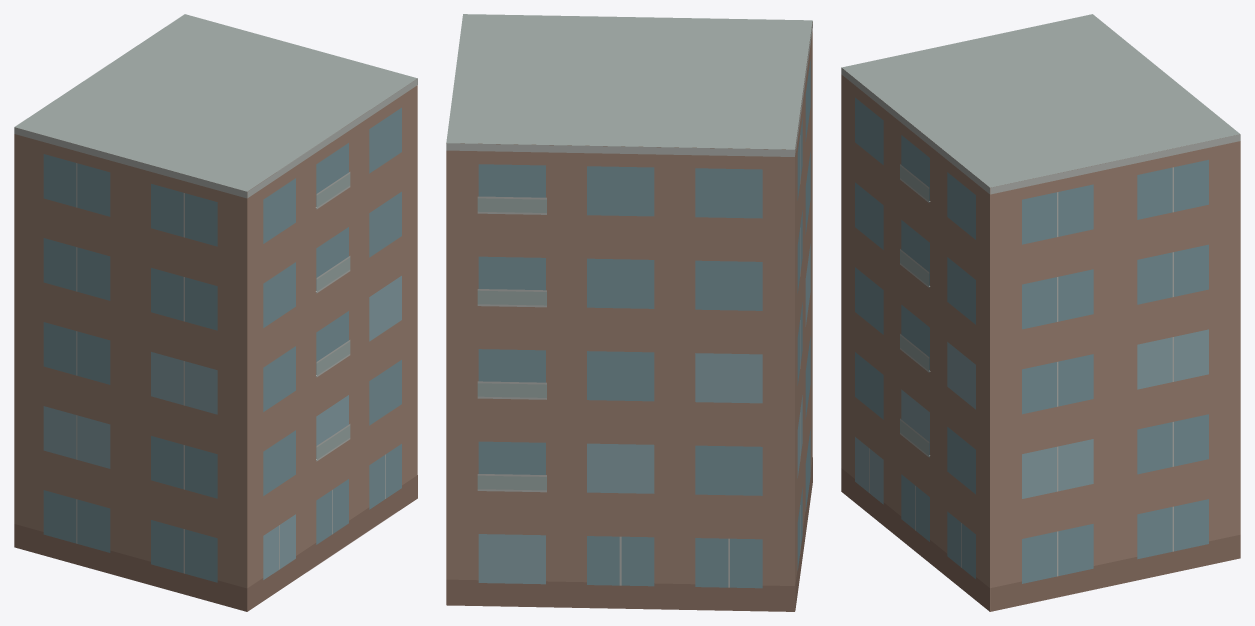
The model's file is survey-upis-32970145.glb.
3 views of the same model, side by side, from view 1: azimuth 30°, elevation 25°; view 2: azimuth 150°, elevation 25°; view 3: azimuth 270°, elevation 25° (orthographic). The views are drawn at different scales.
Parts seen in each view (by area): view 1: survey-upis-32970145.tmp; view 2: survey-upis-32970145.tmp; view 3: survey-upis-32970145.tmp.
Part boxes in pixels (bbox=[...]): survey-upis-32970145.tmp: bbox=[14, 14, 417, 611]; survey-upis-32970145.tmp: bbox=[446, 14, 812, 611]; survey-upis-32970145.tmp: bbox=[841, 14, 1240, 611].
Size of the model in its own units: 13.27 by 15.1 by 12.89.
